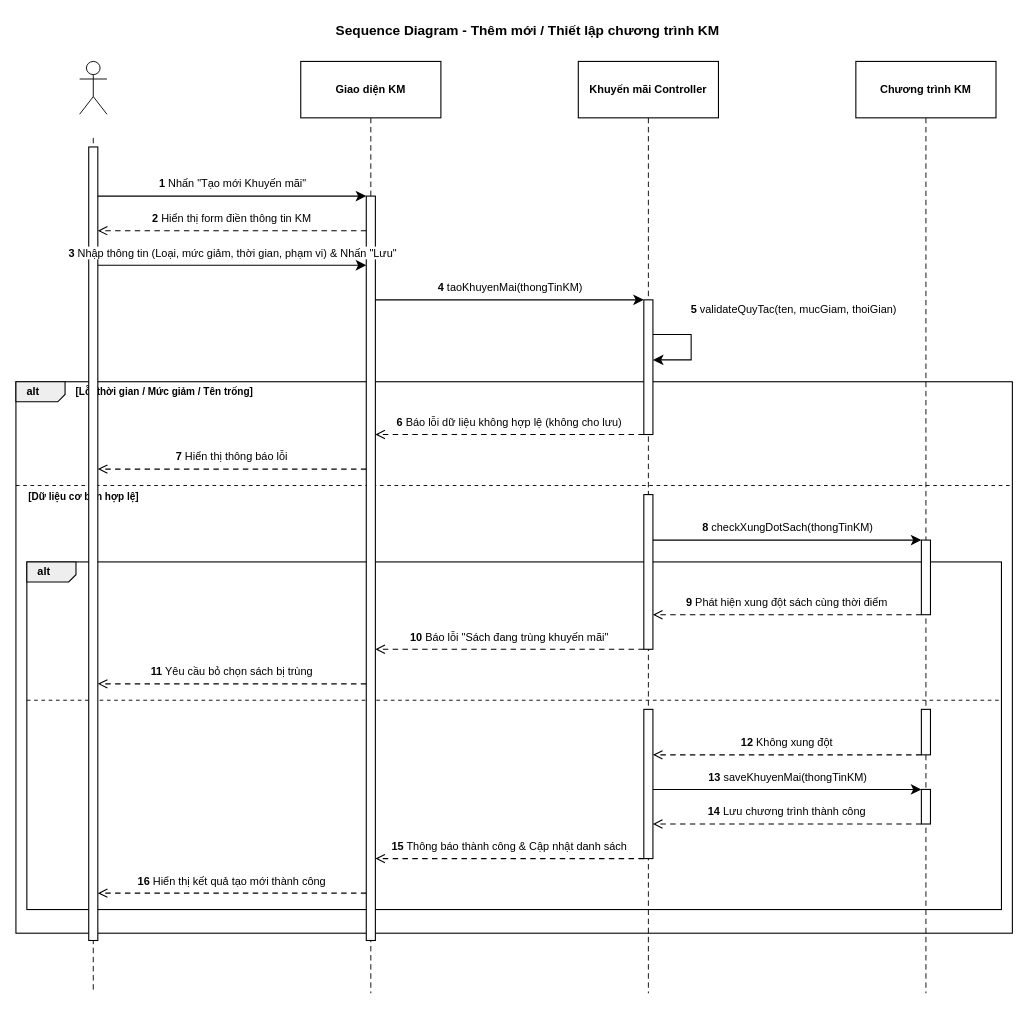
This 1030x1010 diagram has some shape labels left out. Here are the shapes that lost their labels. From the top down, the centre of each, then its label:
(x=93, y=87): Quản lý
(x=159, y=571): [Trùng lặp khuyến mãi]
(x=99, y=711): [Hoàn toàn hợp lệ]
